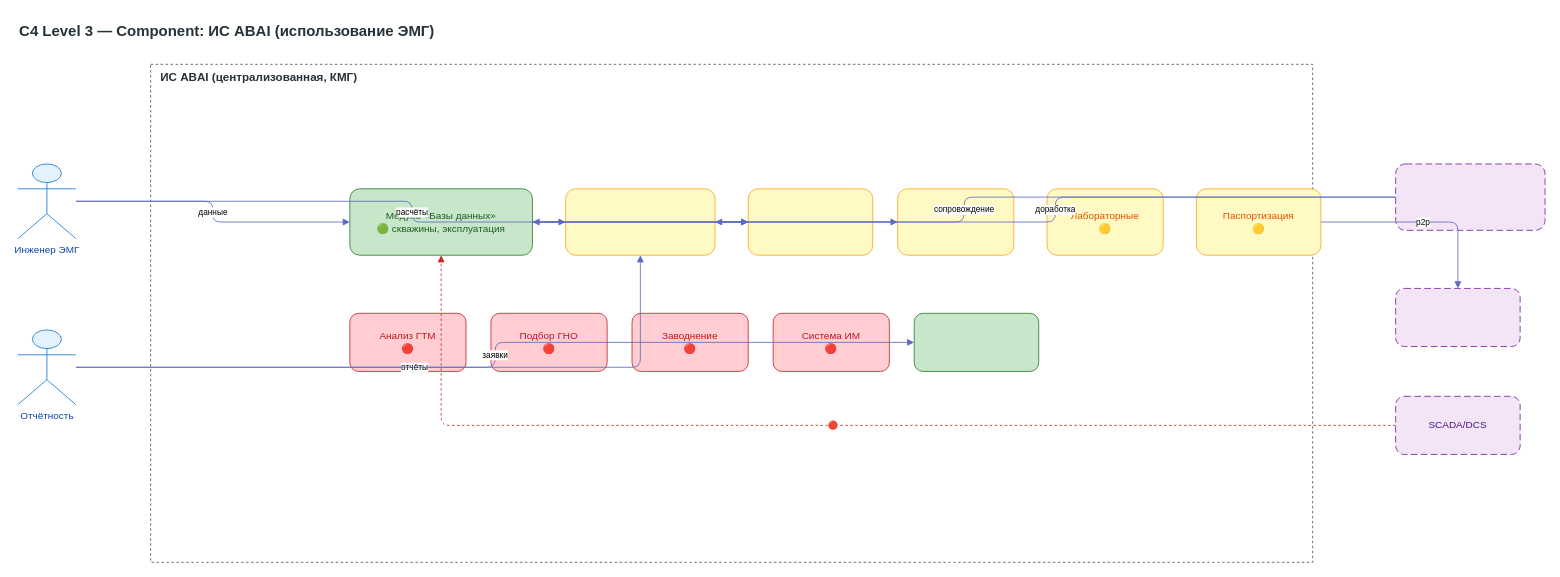
Some shapes in this 1560 by 577 pixel diagram are drawn without their labels. The box of each missing label's shape, as (x1, y1, x2, y2) in pixels:
SAP ERP PM: (1395, 288, 1520, 347)
Service Desk 🟢: (913, 312, 1039, 371)
Аналит. расчёты 🟡: (747, 188, 873, 255)
ИС АСУ НСИ 🟡: (897, 188, 1014, 255)
КМГ Инжиниринг: (1395, 163, 1545, 230)
Отчётный модуль 🟡 6/58 форм: (565, 188, 715, 255)
